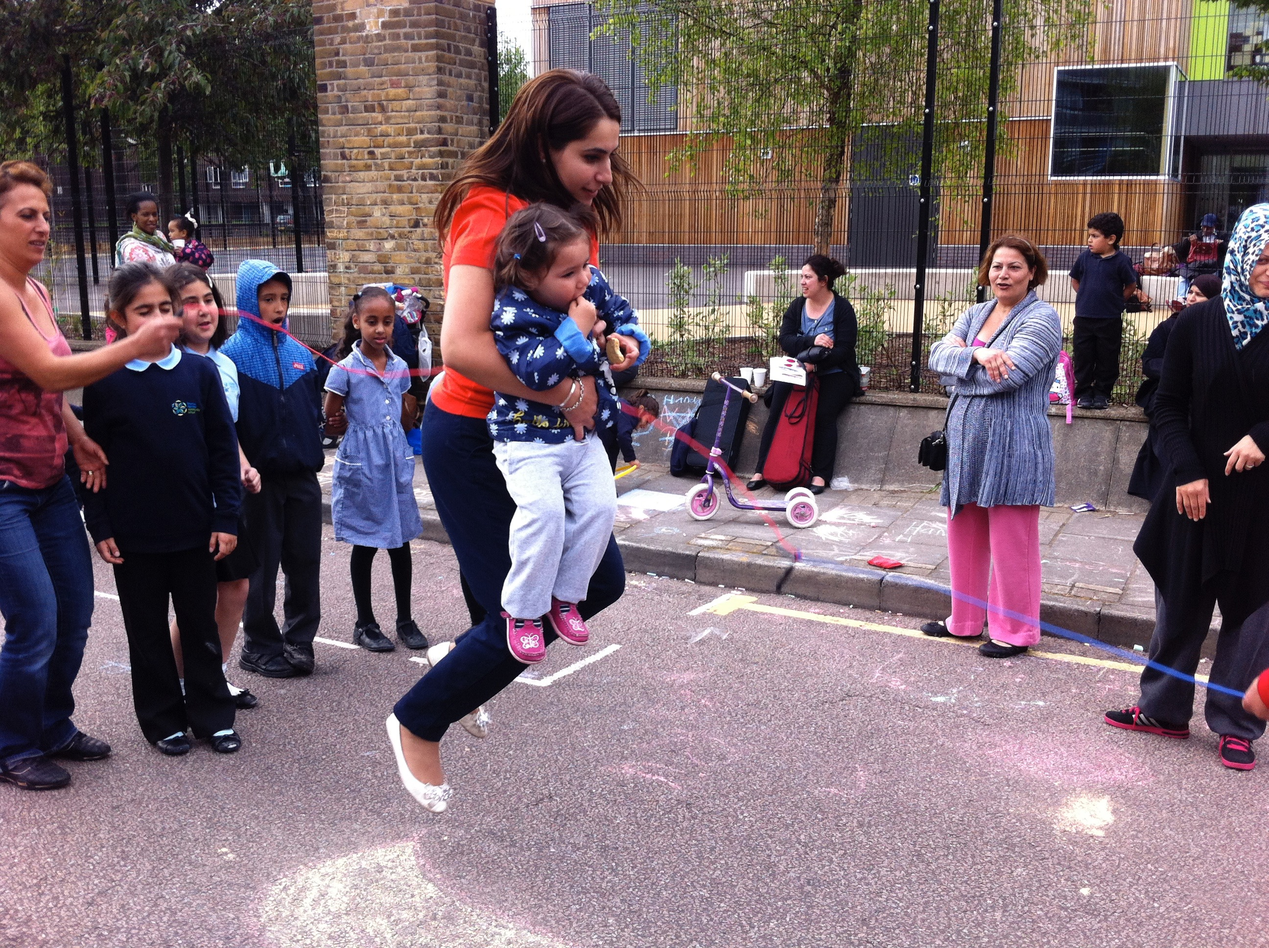Person: (419, 69, 651, 827), (938, 231, 1052, 663), (759, 243, 862, 489), (1058, 207, 1143, 408)
